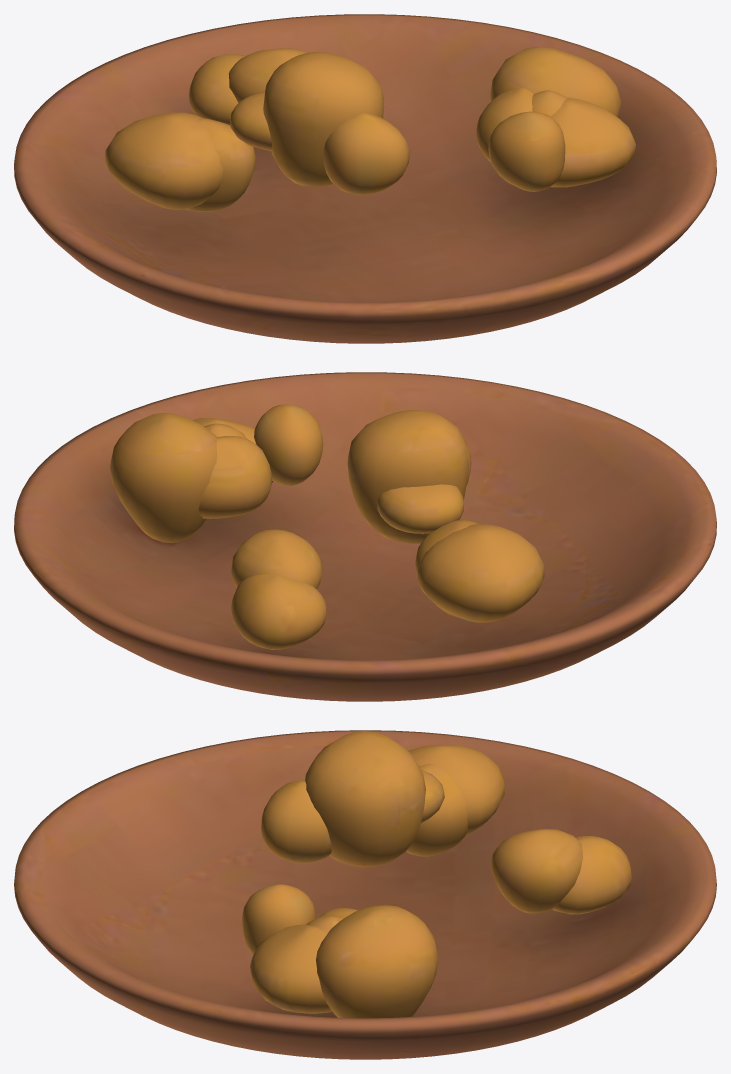
The model's file is gum.glb.
The picture shows the model from 3 angles, top to bottom: view 1: azimuth 30°, elevation 25°; view 2: azimuth 150°, elevation 25°; view 3: azimuth 270°, elevation 25°; orthographic projection.
Parts seen in each view (by area): view 1: gum; view 2: gum; view 3: gum.
Boxes of the visible parts, bbox=[...] form: gum: bbox=[14, 14, 716, 343]; gum: bbox=[14, 372, 716, 701]; gum: bbox=[14, 730, 716, 1059].
Size of the model in its own units: 0.0901 by 0.03 by 0.0901.
1 material, 1 textured.
